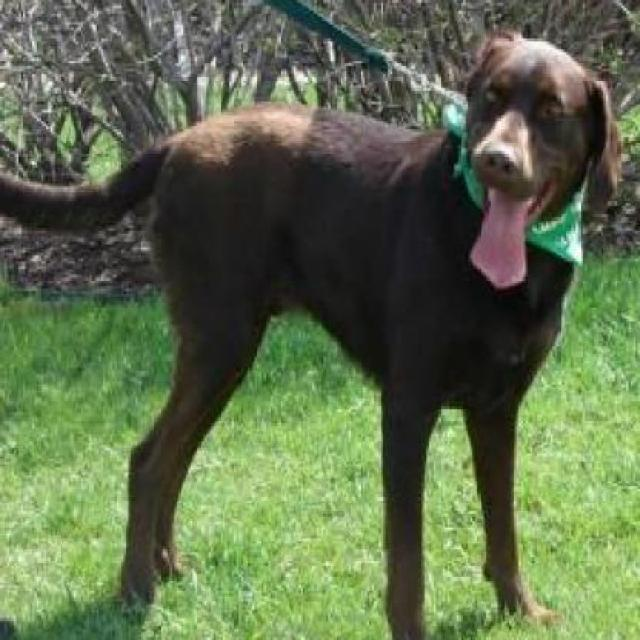Dog: (5, 11, 623, 634)
